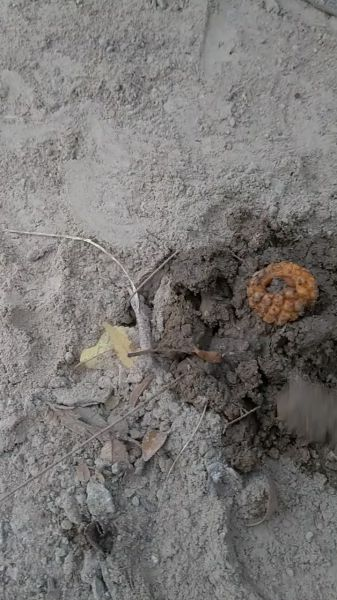eggs: (247, 252, 324, 331)
